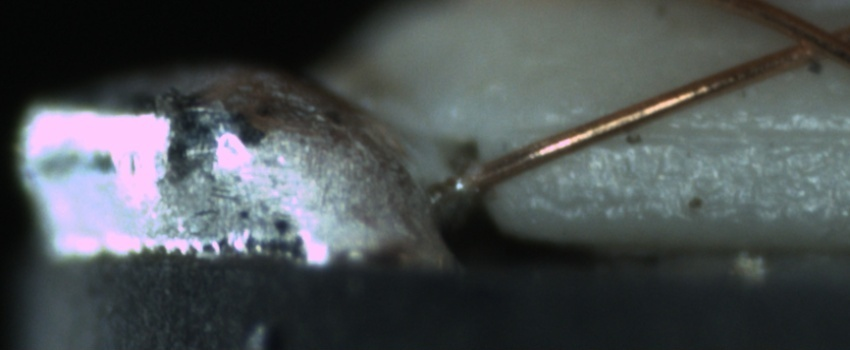CL: (766, 12, 847, 72)
DL: (546, 100, 850, 162)
